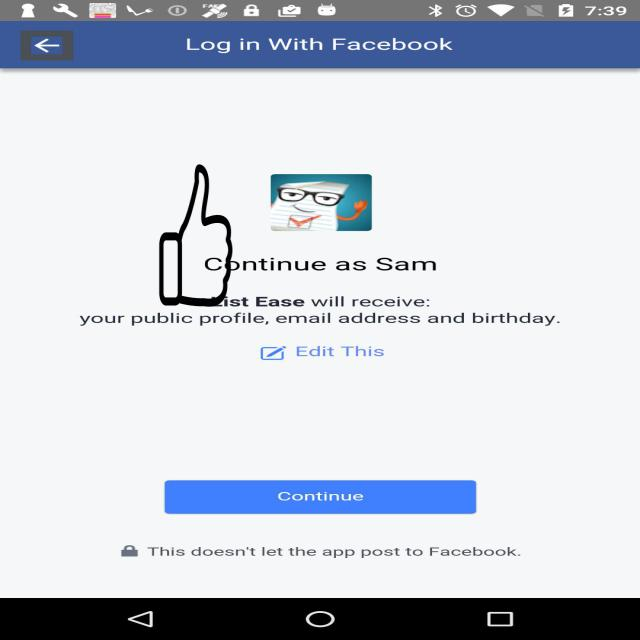privacy zuckering: (158, 164, 234, 307)
